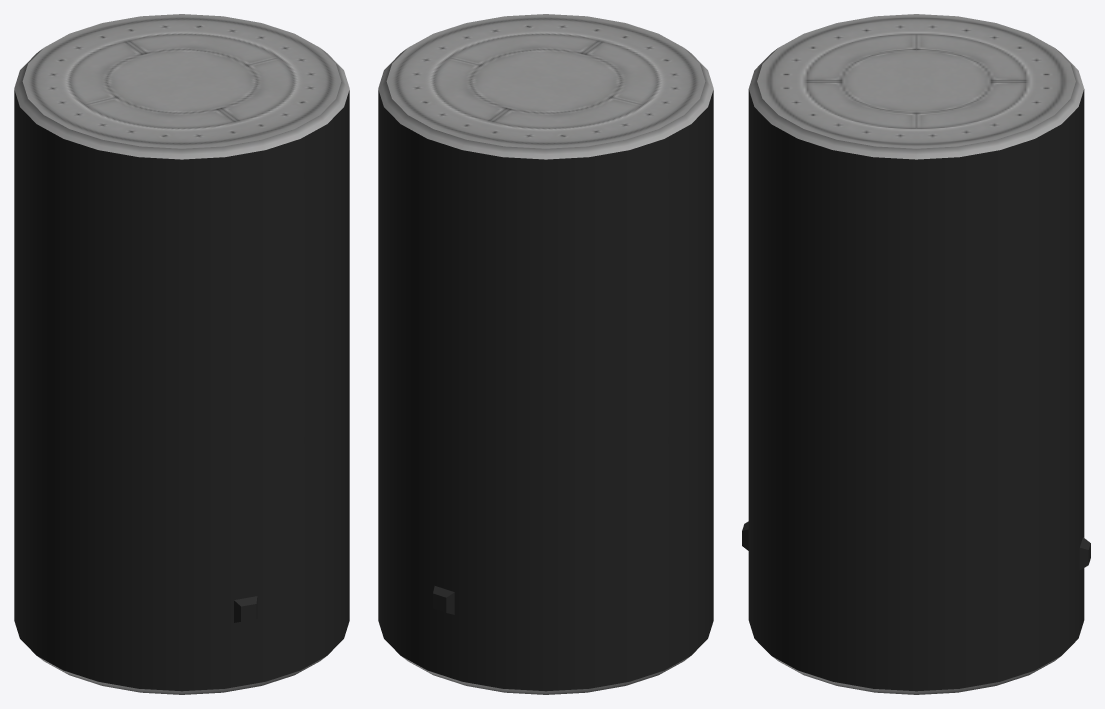
Rendered from CLV_2_LFO_1.obj.
The picture shows the model from 3 angles, left to right: view 1: azimuth 30°, elevation 25°; view 2: azimuth 150°, elevation 25°; view 3: azimuth 270°, elevation 25°; orthographic projection.
Parts seen in each view (by area): view 1: CLV_2_LFO_1; view 2: CLV_2_LFO_1; view 3: CLV_2_LFO_1.
Part boxes in pixels (x1,y1,x2,y2): CLV_2_LFO_1: (14,14,349,694); CLV_2_LFO_1: (378,14,713,694); CLV_2_LFO_1: (742,14,1090,694).
Bounding box in the file's own units: 1.25 × 2.24 × 1.3.
